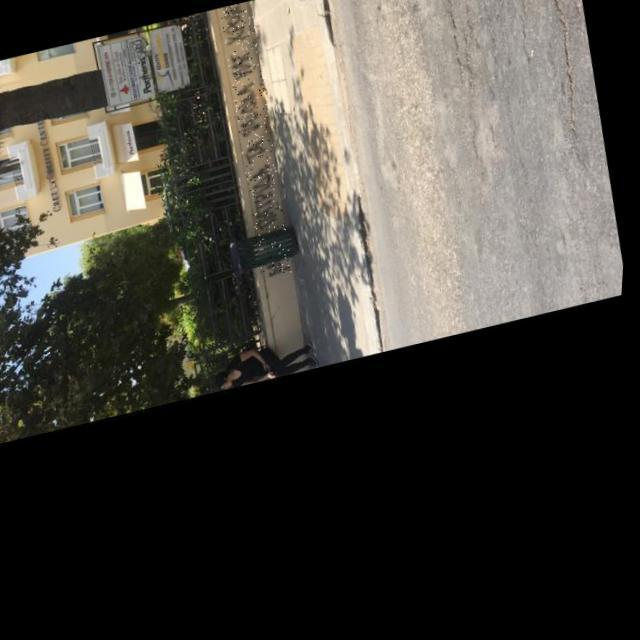-: (207, 1, 308, 282)
